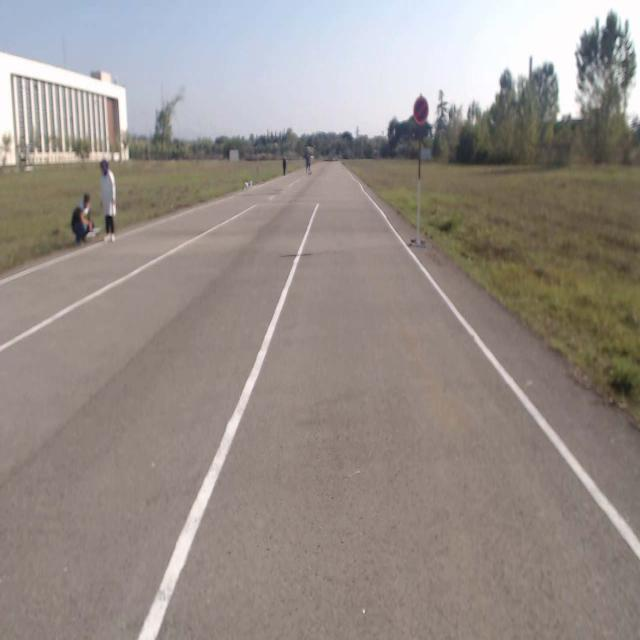parkyasak: (414, 97, 428, 123)
